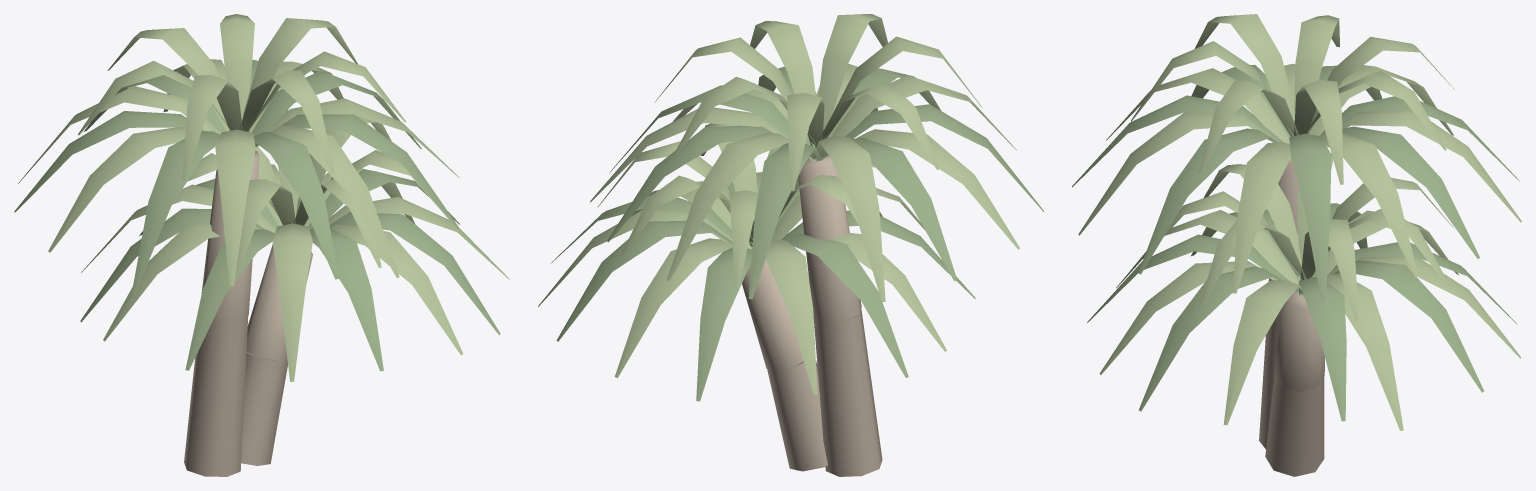
Rendered from small_palm_3.glb.
3 renders of one model, left to right at view 1: azimuth 30°, elevation 25°; view 2: azimuth 150°, elevation 25°; view 3: azimuth 270°, elevation 25°, orthographic.
Parts seen in each view (by area): view 1: small_palm_3.glb; view 2: small_palm_3.glb; view 3: small_palm_3.glb.
Part boxes in pixels (x1=…): small_palm_3.glb: x1=14, y1=14, x2=509, y2=476; small_palm_3.glb: x1=538, y1=14, x2=1043, y2=476; small_palm_3.glb: x1=1072, y1=14, x2=1521, y2=476.
Size of the model in its own units: 3.11 by 2.84 by 2.75.
